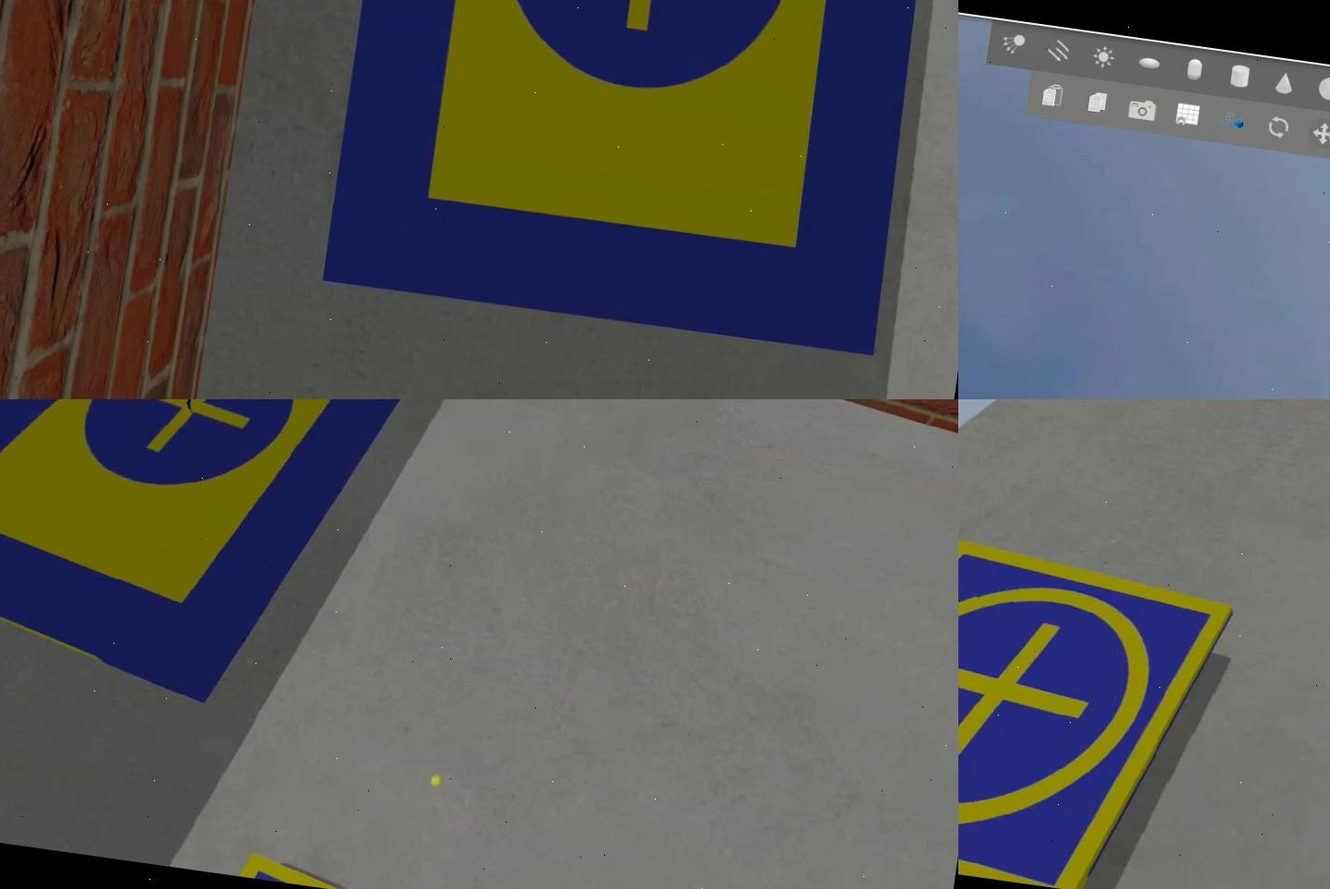large_base: (321, 1, 951, 365), (0, 400, 463, 731)
small_base: (956, 516, 1234, 889)
